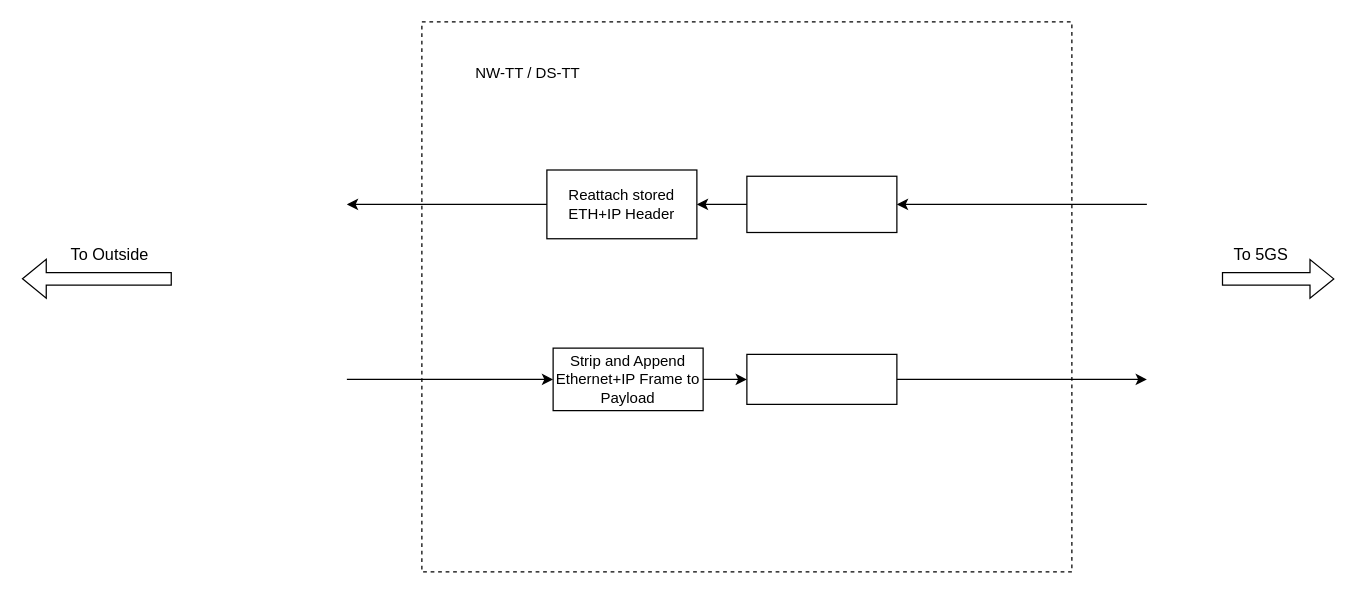
This 1355x594 diagram has some shape labels left out. Each missing label, with the box of its shape:
Calculate Residence Time in PTP payload: (746, 175, 897, 232)
Insert Timestamp into PTP payload: (746, 353, 897, 404)
